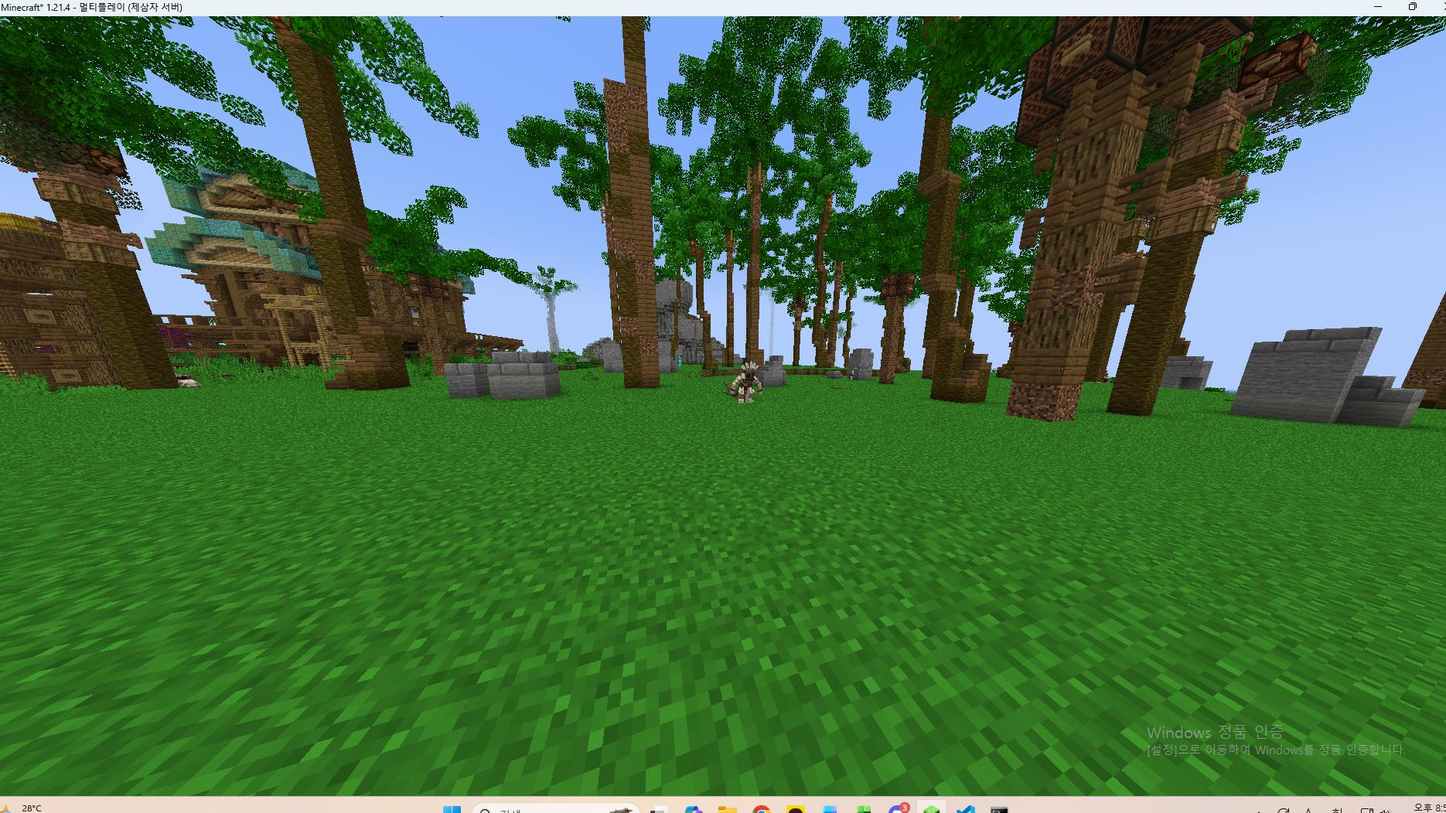bow_indian: (724, 362, 774, 421)
